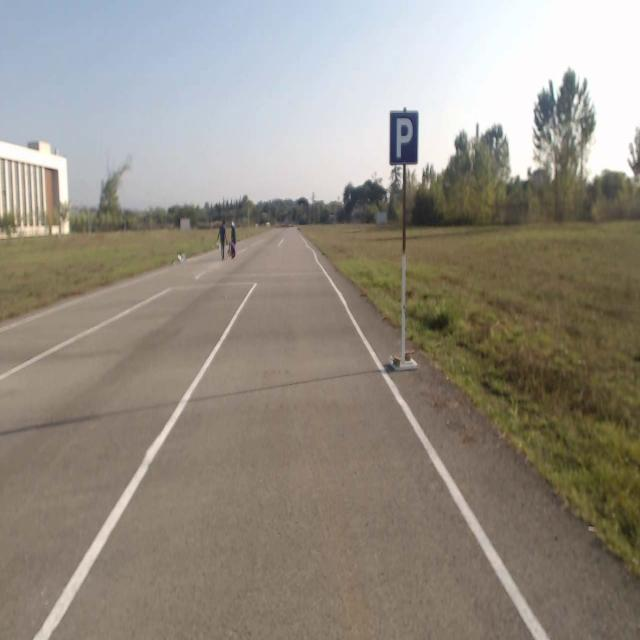park: (390, 112, 418, 164)
